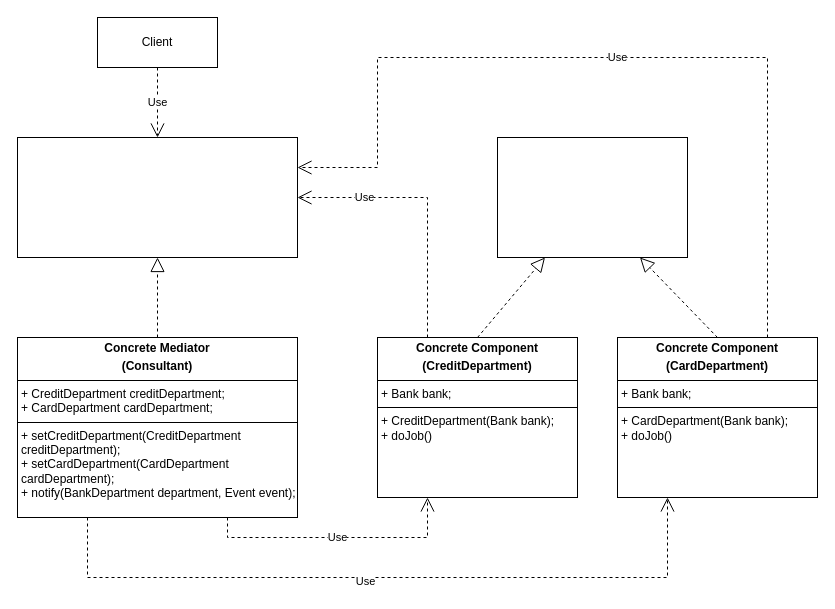
The diagram is 835 pixels wide and 609 high, and some of its shapes have lost their labels. The centre of each missing label's shape, as x and y in pixels:
"<<Interface>> Component BankDepartment + doJob();" goes at (x=592, y=197).
"<<Interface>> Mediator (Bank) + notify(BankDepartment department, Event event);" goes at (x=157, y=197).
